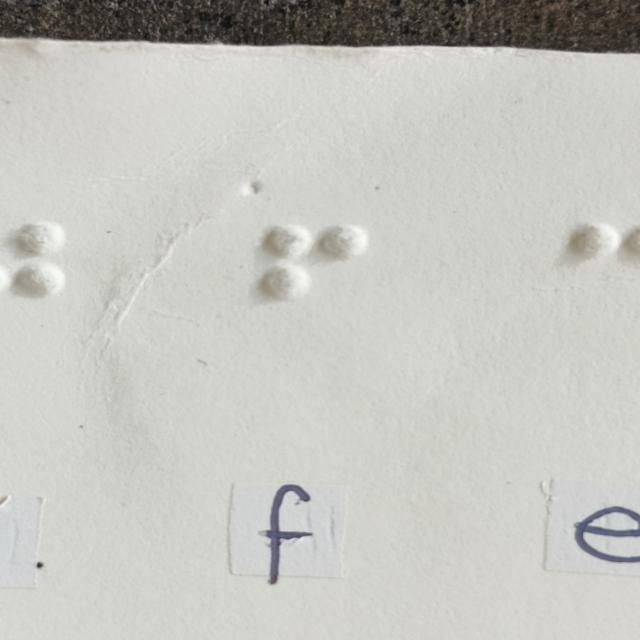letter_f: (261, 226, 366, 345)
